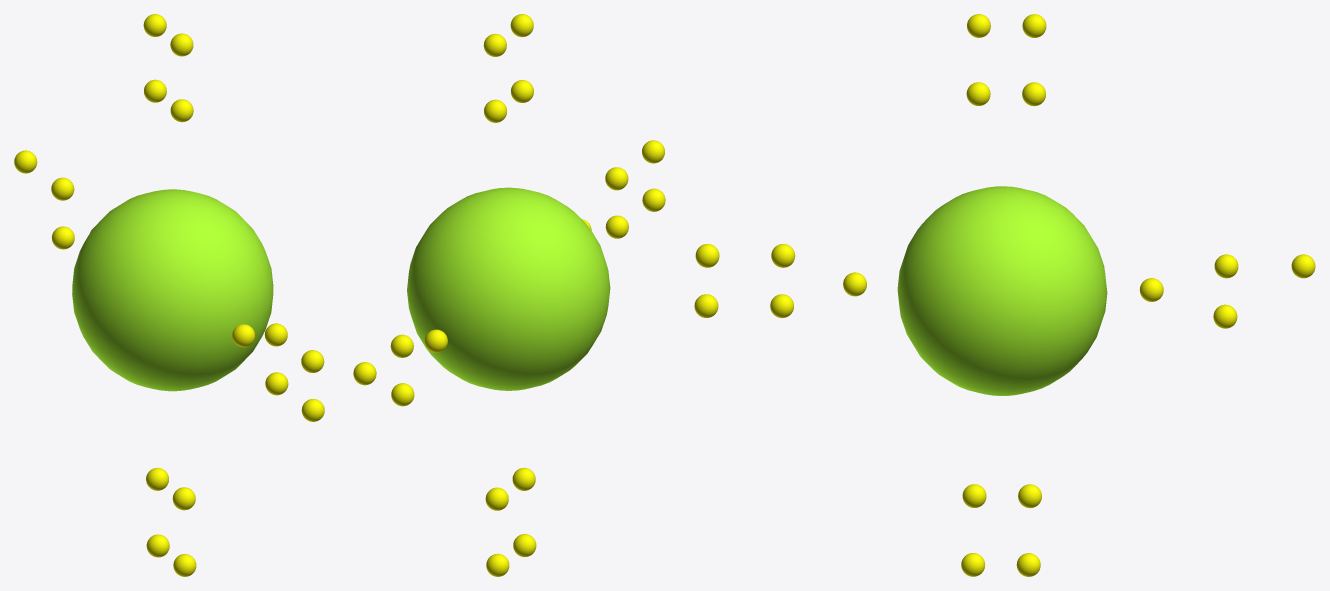
The model's file is Chlorine_Ionic_bond.fbx.
3 renders of one model, left to right at view 1: azimuth 30°, elevation 25°; view 2: azimuth 150°, elevation 25°; view 3: azimuth 270°, elevation 25°, orthographic. The views are drawn at different scales.
Parts seen in each view (by area): view 1: Sphere, Sphere.017, Sphere.020, Sphere.016, Sphere.007, Sphere.005, Sphere.012, Sphere.008, Sphere.006, Sphere.001, Sphere.018, Sphere.010 (+5 smaller); view 2: Sphere, Sphere.016, Sphere.001, Sphere.006, Sphere.009, Sphere.004, Sphere.013, Sphere.008, Sphere.017, Sphere.014, Sphere.010, Sphere.007 (+5 smaller); view 3: Sphere.
Boxes of the visible parts, left/top/right/bottom form: Sphere: left=72, top=189, right=273, bottom=391; Sphere.017: left=146, top=534, right=169, bottom=557; Sphere.020: left=170, top=33, right=193, bottom=56; Sphere.016: left=14, top=150, right=37, bottom=173; Sphere.007: left=51, top=177, right=74, bottom=200; Sphere.005: left=232, top=324, right=255, bottom=347; Sphere.012: left=170, top=99, right=193, bottom=122; Sphere.008: left=265, top=372, right=288, bottom=395; Sphere.006: left=264, top=323, right=287, bottom=346; Sphere.001: left=51, top=226, right=74, bottom=249; Sphere.018: left=173, top=554, right=196, bottom=576; Sphere.010: left=172, top=487, right=195, bottom=510; Sphere: left=407, top=187, right=610, bottom=390; Sphere.016: left=353, top=362, right=376, bottom=385; Sphere.001: left=391, top=383, right=414, bottom=406; Sphere.006: left=605, top=167, right=628, bottom=190; Sphere.009: left=485, top=487, right=508, bottom=510; Sphere.004: left=424, top=329, right=447, bottom=352; Sphere.013: left=642, top=188, right=665, bottom=211; Sphere.008: left=605, top=215, right=628, bottom=238; Sphere.017: left=486, top=553, right=509, bottom=576; Sphere.014: left=642, top=140, right=664, bottom=163; Sphere.010: left=512, top=467, right=535, bottom=490; Sphere.007: left=390, top=334, right=413, bottom=357; Sphere: left=897, top=186, right=1107, bottom=395.
Size of the model in its own units: 140 by 412 by 414.
